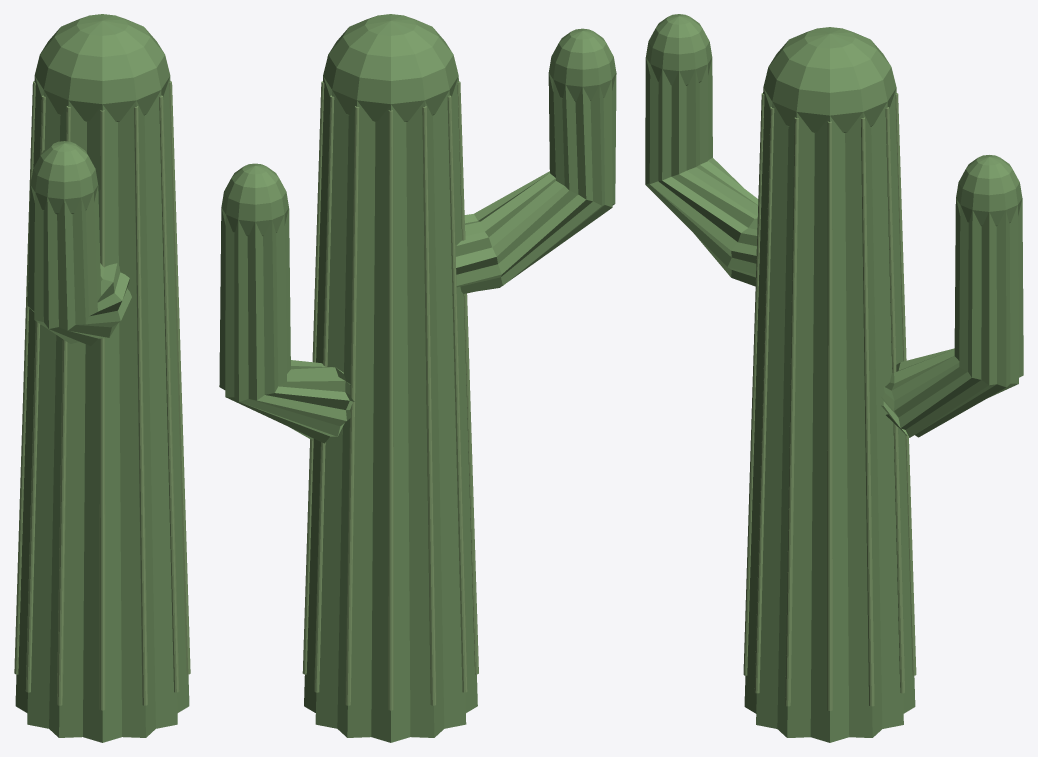
File: cactus-3.glb
The picture shows the model from 3 angles, left to right: view 1: azimuth 30°, elevation 25°; view 2: azimuth 150°, elevation 25°; view 3: azimuth 270°, elevation 25°; orthographic projection.
Parts seen in each view (by area): view 1: cactus-3; view 2: cactus-3; view 3: cactus-3.
Part boxes in pixels (x1,y1,x2,y2): cactus-3: (14, 14, 190, 742); cactus-3: (219, 14, 616, 742); cactus-3: (645, 14, 1023, 742).
Size of the model in its own units: 1.11 by 3.13 by 1.6.
